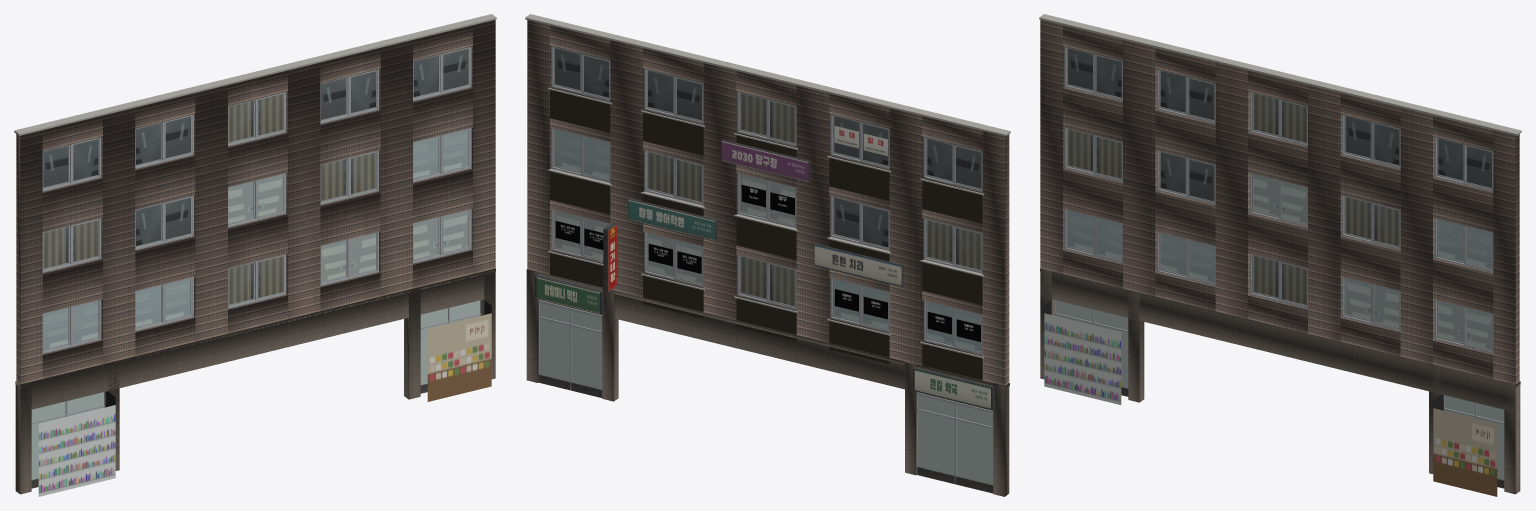
The model's file is PH_StorefrontUpper.fbx.
3 views of the same model, side by side, from view 1: azimuth 30°, elevation 25°; view 2: azimuth 150°, elevation 25°; view 3: azimuth 330°, elevation 25° (orthographic).
Parts seen in each view (by area): view 1: PH_StorefrontUpper; view 2: PH_StorefrontUpper; view 3: PH_StorefrontUpper.
Boxes of the visible parts, x1=… form: PH_StorefrontUpper: x1=14, y1=14, x2=496, y2=496; PH_StorefrontUpper: x1=525, y1=14, x2=1010, y2=496; PH_StorefrontUpper: x1=1039, y1=14, x2=1521, y2=496.
Size of the model in its own units: 19.1 by 13.78 by 1.55.
